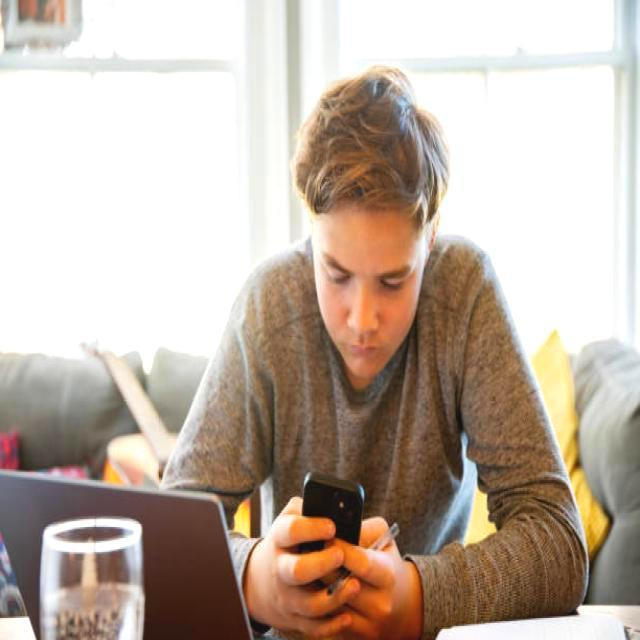Looking away: (311, 204, 423, 383)
